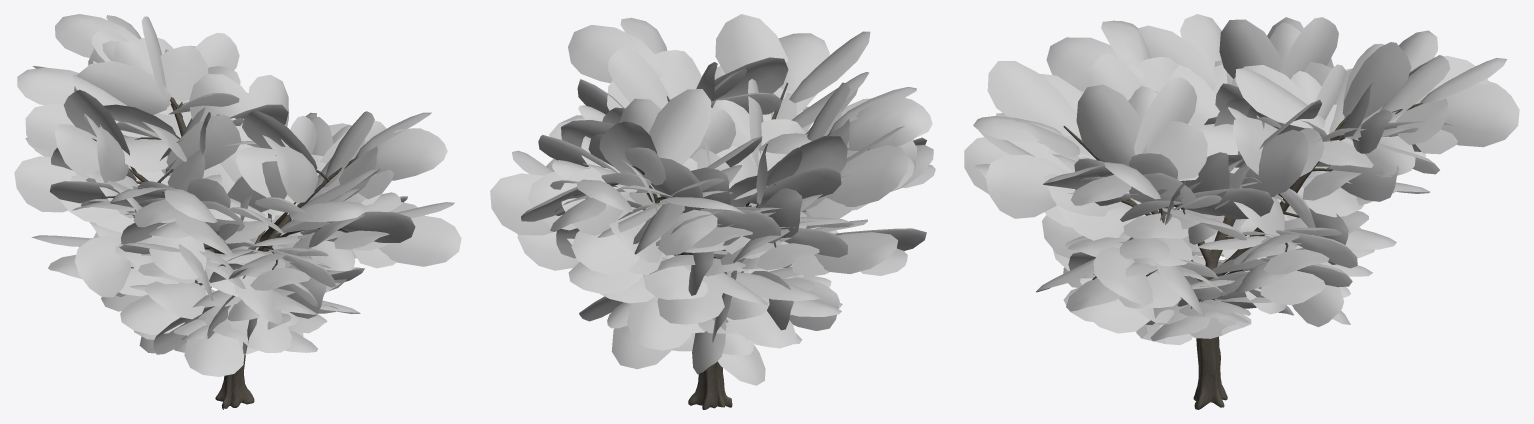
The model's file is DF_JP_Sakura_01.fbx.
3 views of the same model, side by side, from view 1: azimuth 30°, elevation 25°; view 2: azimuth 150°, elevation 25°; view 3: azimuth 270°, elevation 25° (orthographic). The views are drawn at different scales.
Parts seen in each view (by area): view 1: DF_JP_Sakura_01_LOD0; view 2: DF_JP_Sakura_01_LOD0; view 3: DF_JP_Sakura_01_LOD0.
Boxes of the visible parts, x1,y1,x2,y2 form: DF_JP_Sakura_01_LOD0: (14,14,461,409); DF_JP_Sakura_01_LOD0: (490,14,935,409); DF_JP_Sakura_01_LOD0: (964,14,1519,409).
Size of what is drawn, in the model's own units: 532 by 457 by 641.
